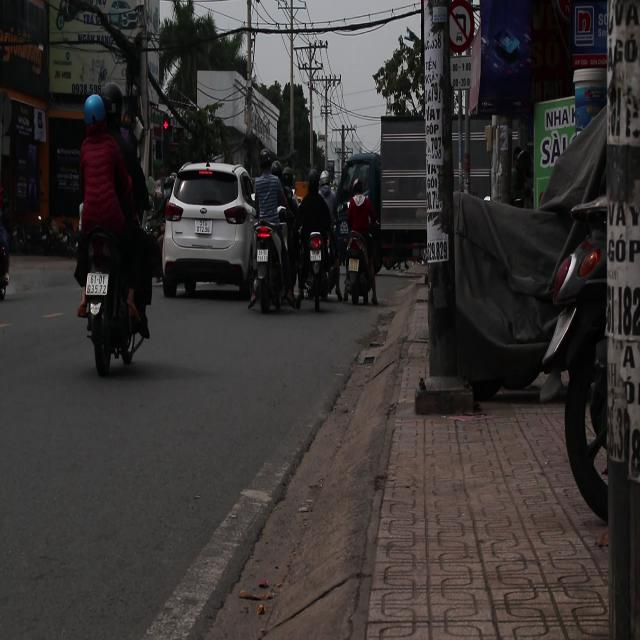car: (161, 160, 262, 301)
motorbike: (85, 230, 146, 377), (296, 205, 330, 321), (248, 221, 288, 314), (340, 218, 372, 323)
truck: (378, 118, 428, 272)
